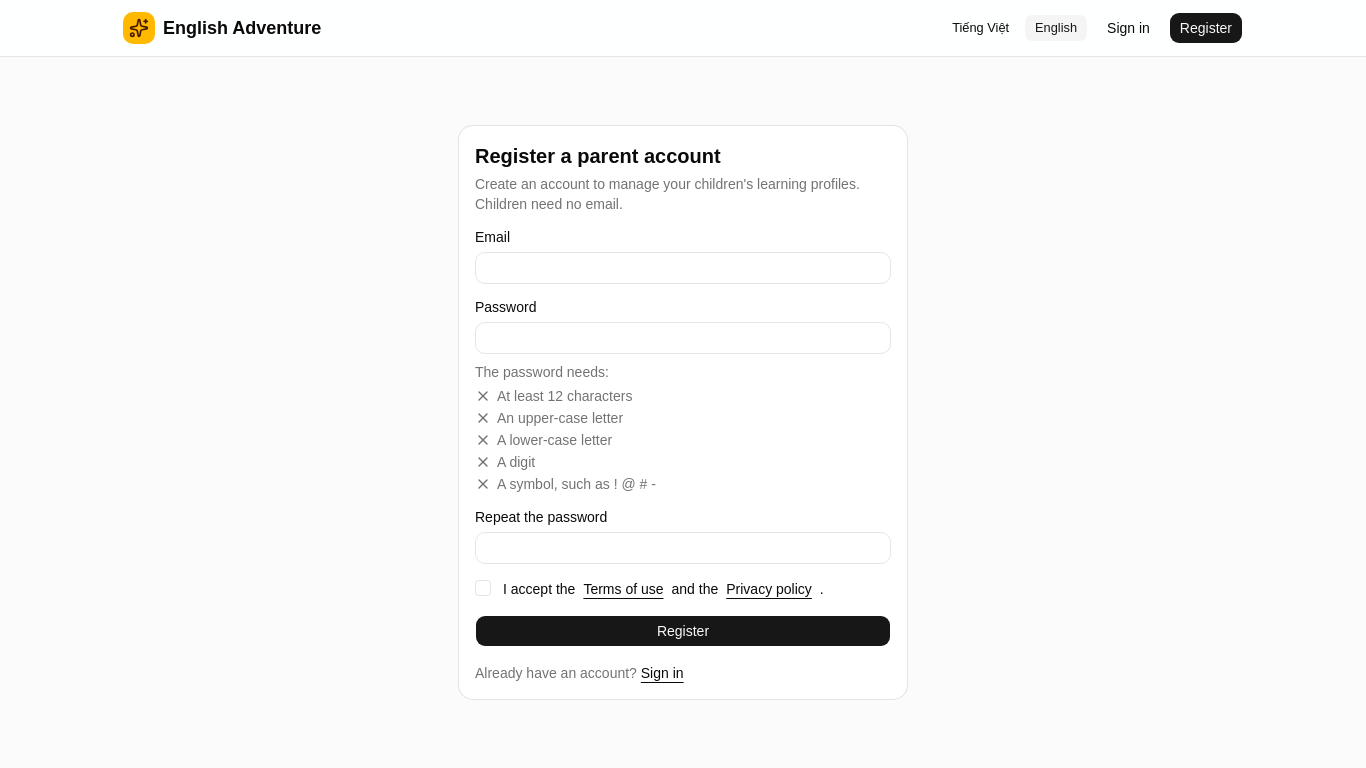
Scenario: registration › sends English emails when the interface is in English
Type "parent@example.test" into the field labelled "Email".
click(683, 268); type("parent@example.test")  # box x1=475 y1=252 x2=891 y2=284
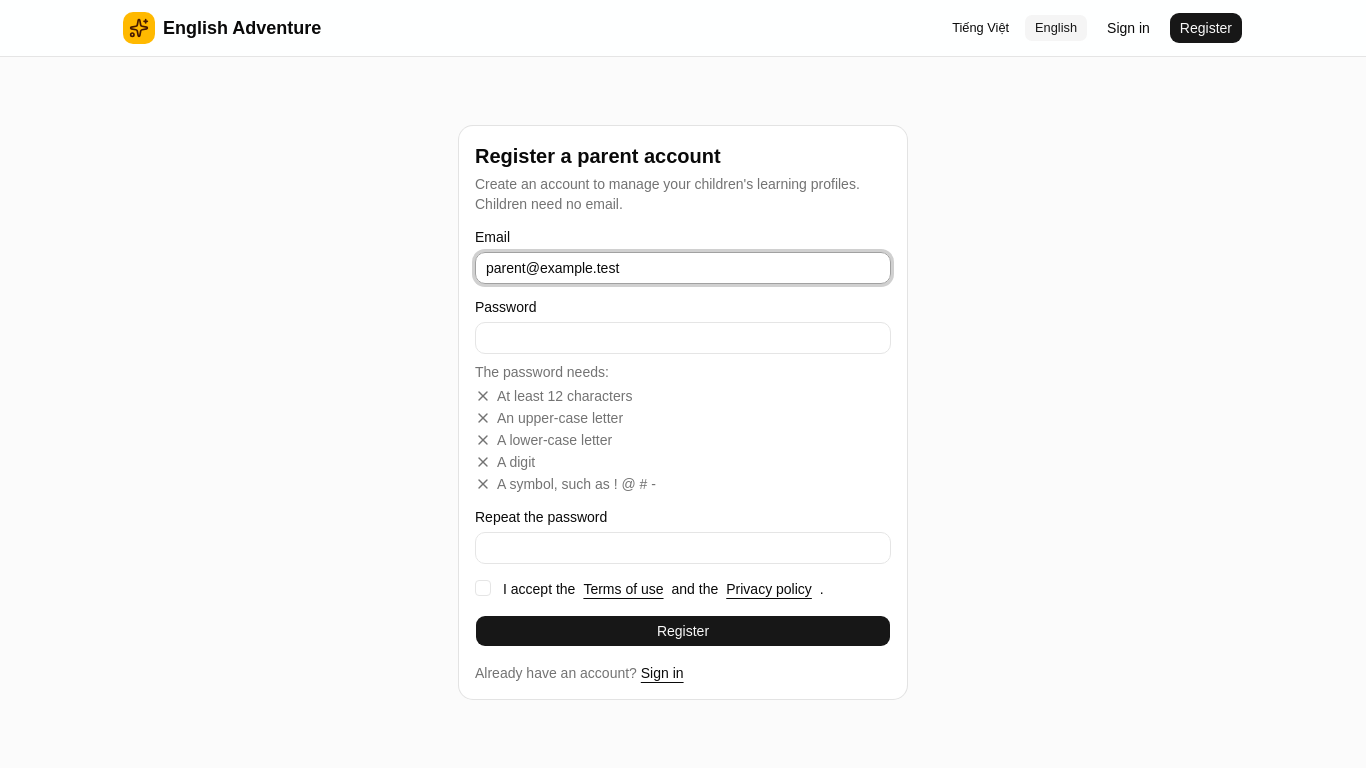
Type "Correct-horse-1" into the password field labelled "Password".
click(683, 338); type("Correct-horse-1")  # box x1=475 y1=322 x2=891 y2=354
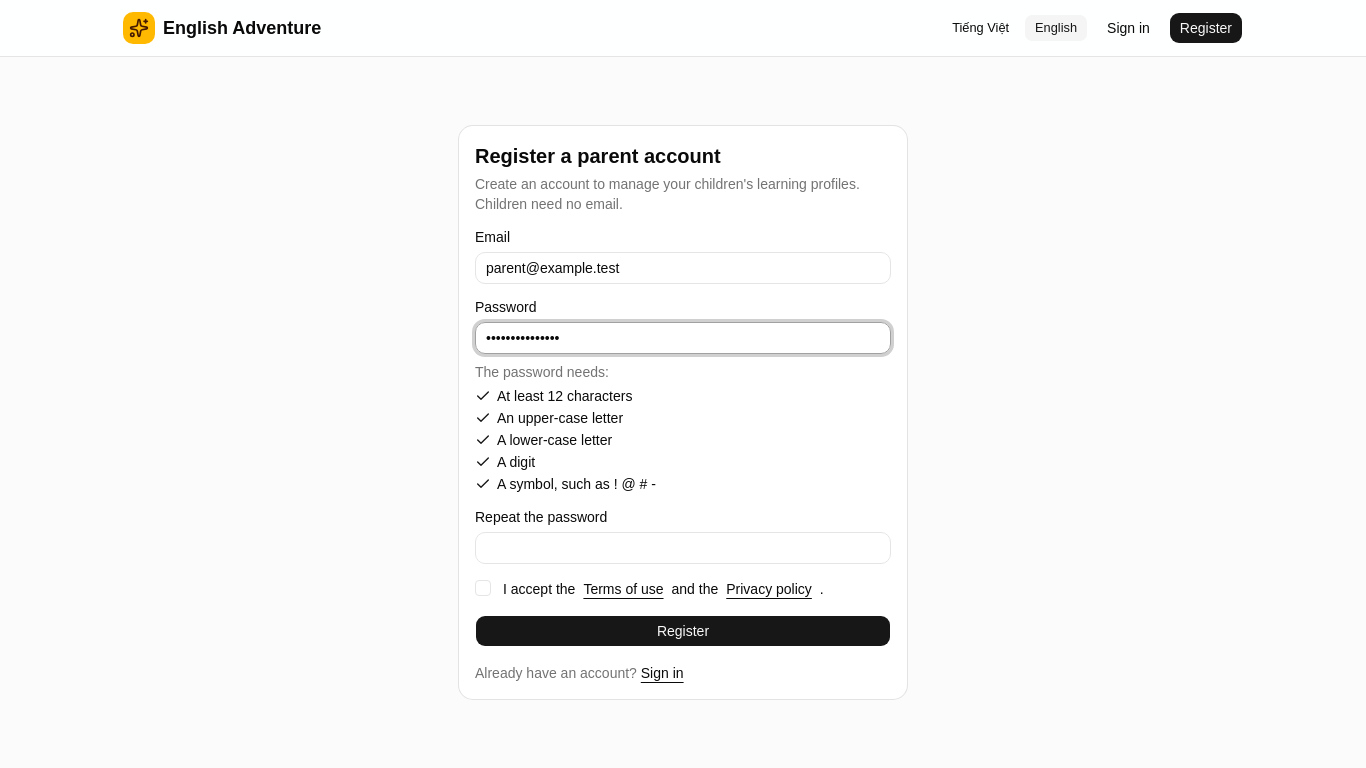
Type "Correct-horse-1" into the password field labelled "Repeat the password".
click(683, 548); type("Correct-horse-1")  # box x1=475 y1=532 x2=891 y2=564
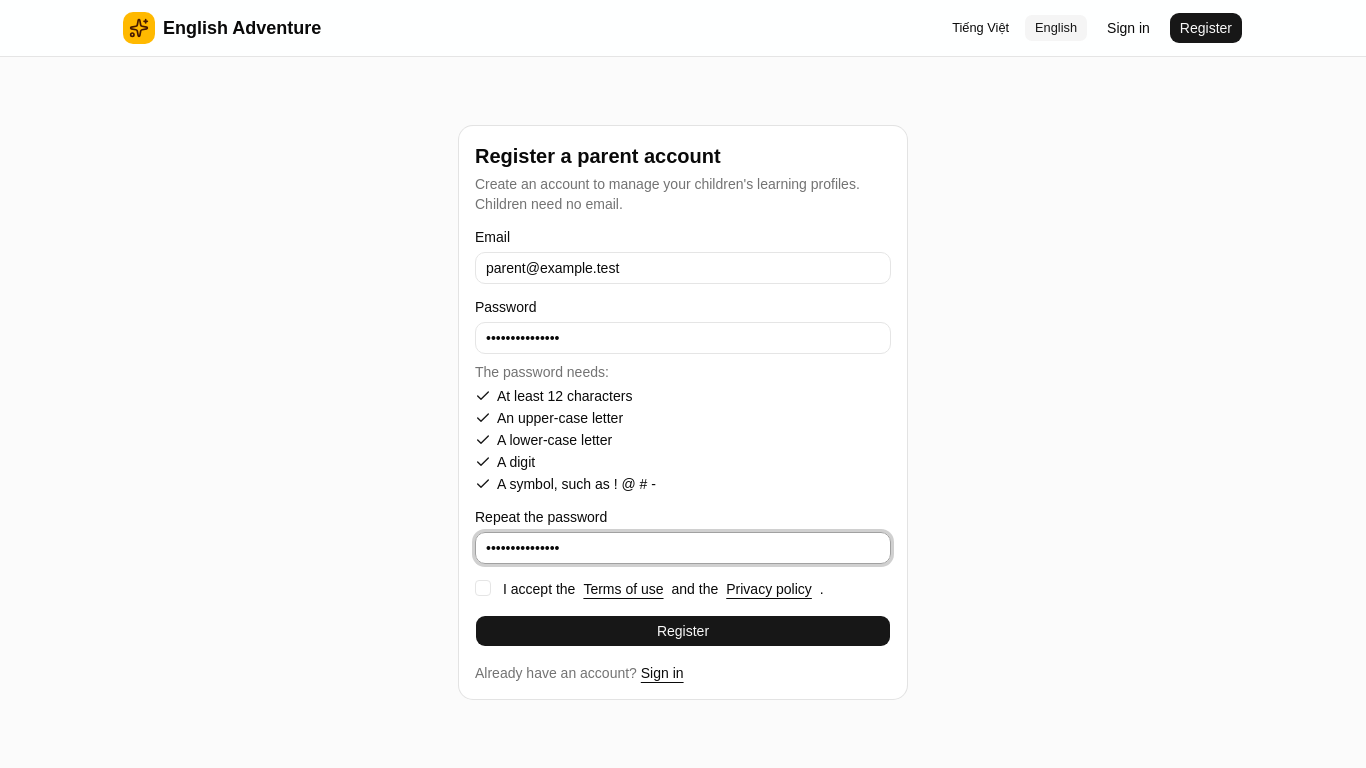
Click the checkbox named "I accept".
click(483, 588)  # box x1=475 y1=580 x2=491 y2=596
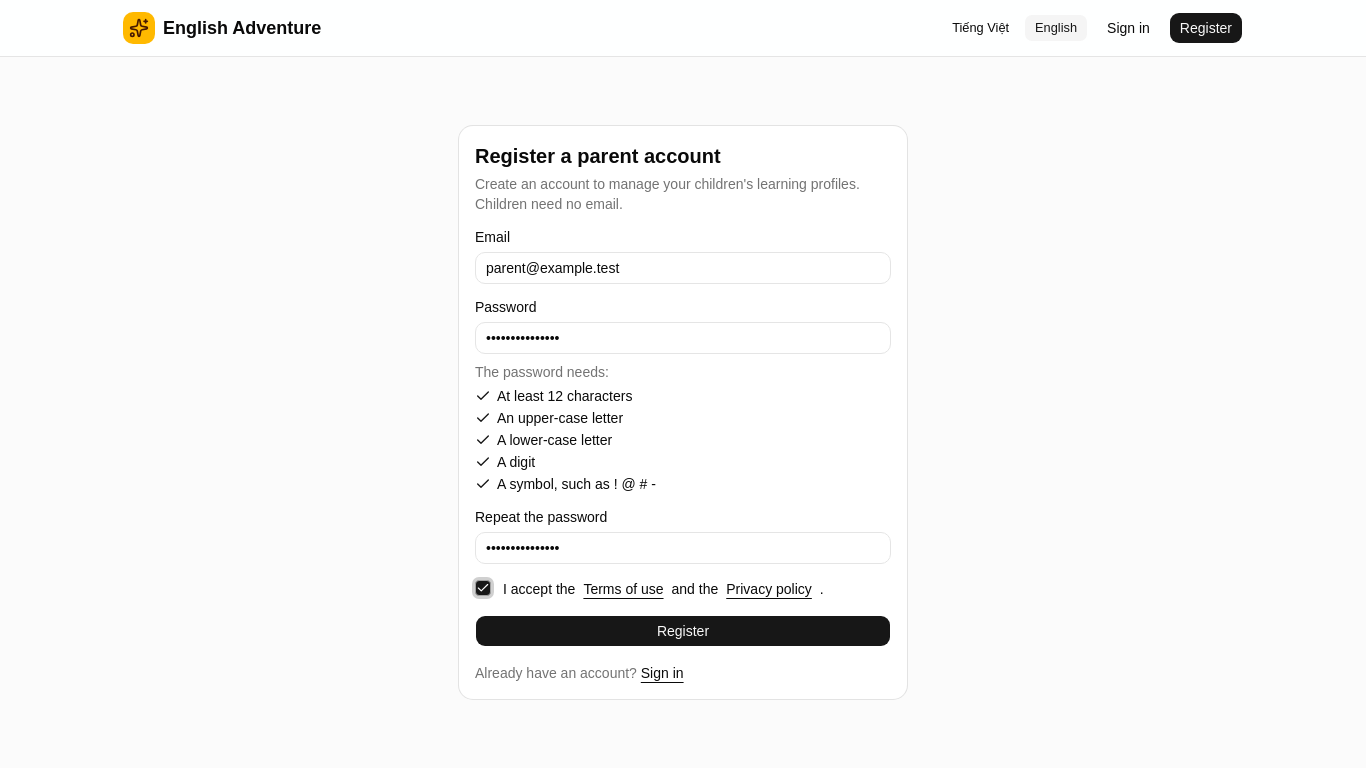
Click the button "Register".
click(683, 631)  # box x1=475 y1=615 x2=891 y2=647
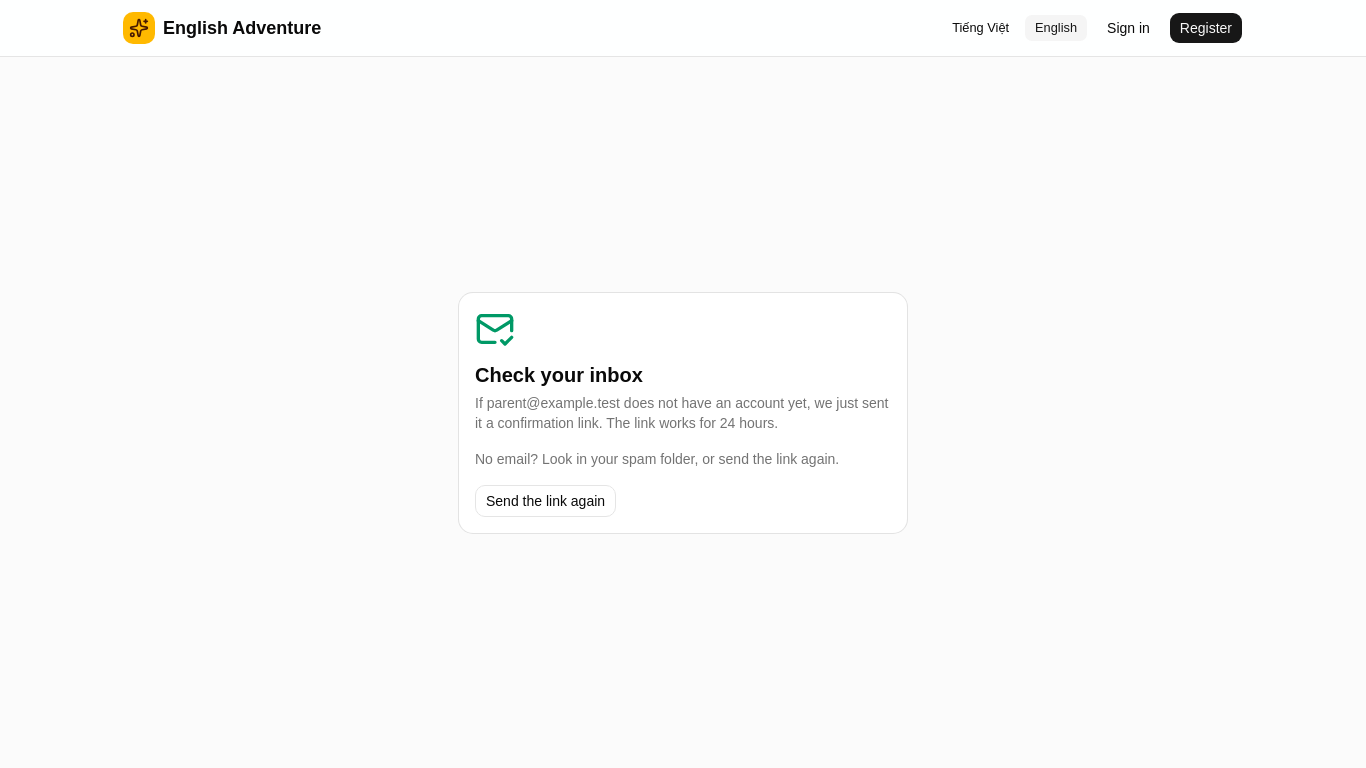
Expected: the heading "Check your inbox" is shown, x1=475 y1=364 x2=643 y2=386
